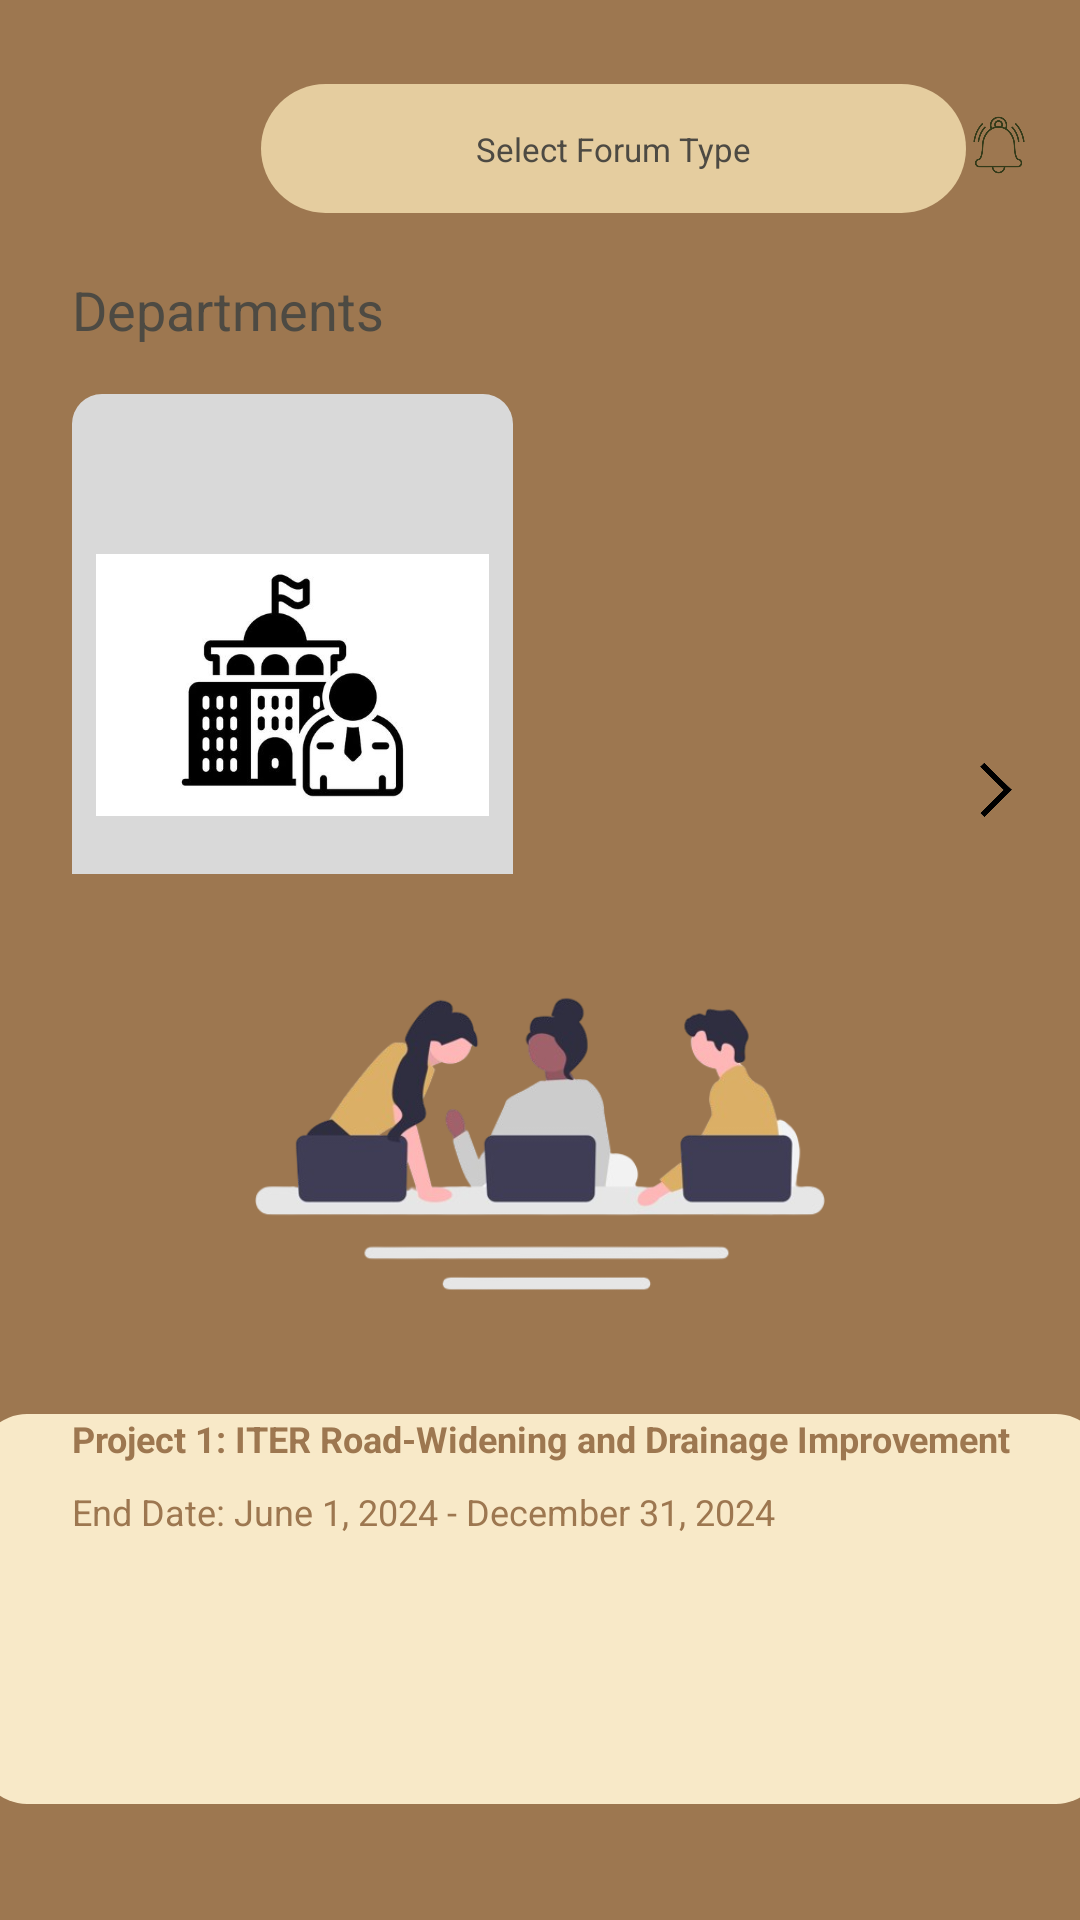

Locate icon controls on the screen. Image size 1080w x 1920h, boxes as (x1, y1, x2, y2).
notification: (945, 101, 1025, 196)
scroll arrow: (980, 763, 1012, 817)
